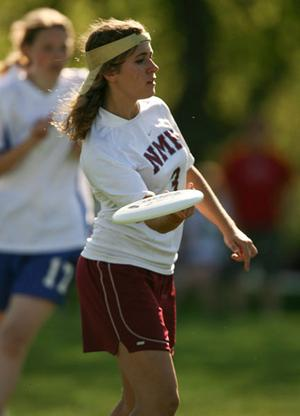person: (60, 18, 258, 416)
